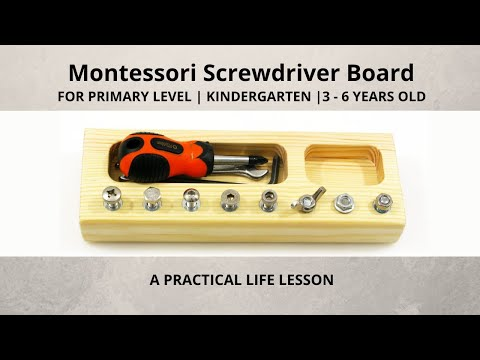screwdriver: (118, 130, 268, 183)
